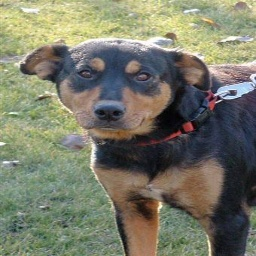dog: (26, 25, 256, 256)
